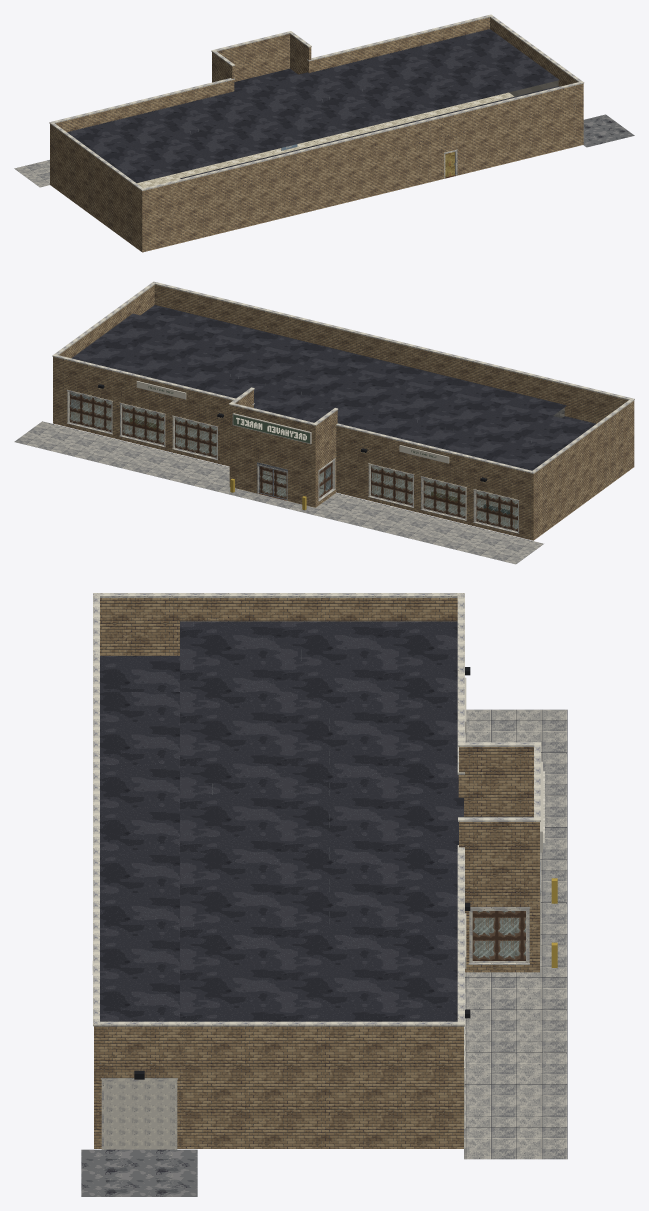
Rendered from COM_Supermarket.glb.
3 views of the same model, one above another, from view 1: azimuth 30°, elevation 25°; view 2: azimuth 150°, elevation 25°; view 3: azimuth 270°, elevation 25° (orthographic). The views are drawn at different scales.
Visible parts, largest first — view 1: COM_Supermarket_Exterior, COM_Supermarket_Interior; view 2: COM_Supermarket_Exterior, COM_Supermarket_Interior, INT_AutoDoor_Entrance_R; view 3: COM_Supermarket_Exterior, INT_GarageDoor_Loading, COM_Supermarket_Interior.
Boxes of the visible parts, <box> form: COM_Supermarket_Exterior: <box>14,14,634,252</box>; COM_Supermarket_Interior: <box>133,80,558,188</box>; COM_Supermarket_Exterior: <box>14,281,634,564</box>; COM_Supermarket_Interior: <box>70,374,564,528</box>; INT_AutoDoor_Entrance_R: <box>258,466,272,496</box>; COM_Supermarket_Exterior: <box>81,593,567,1196</box>; INT_GarageDoor_Loading: <box>104,1081,174,1149</box>; COM_Supermarket_Interior: <box>212,649,540,958</box>.
Size of what is drawn, in the model's own units: 45.5 by 6.68 by 19.2.
Materials: 20 (20 with a texture image).
